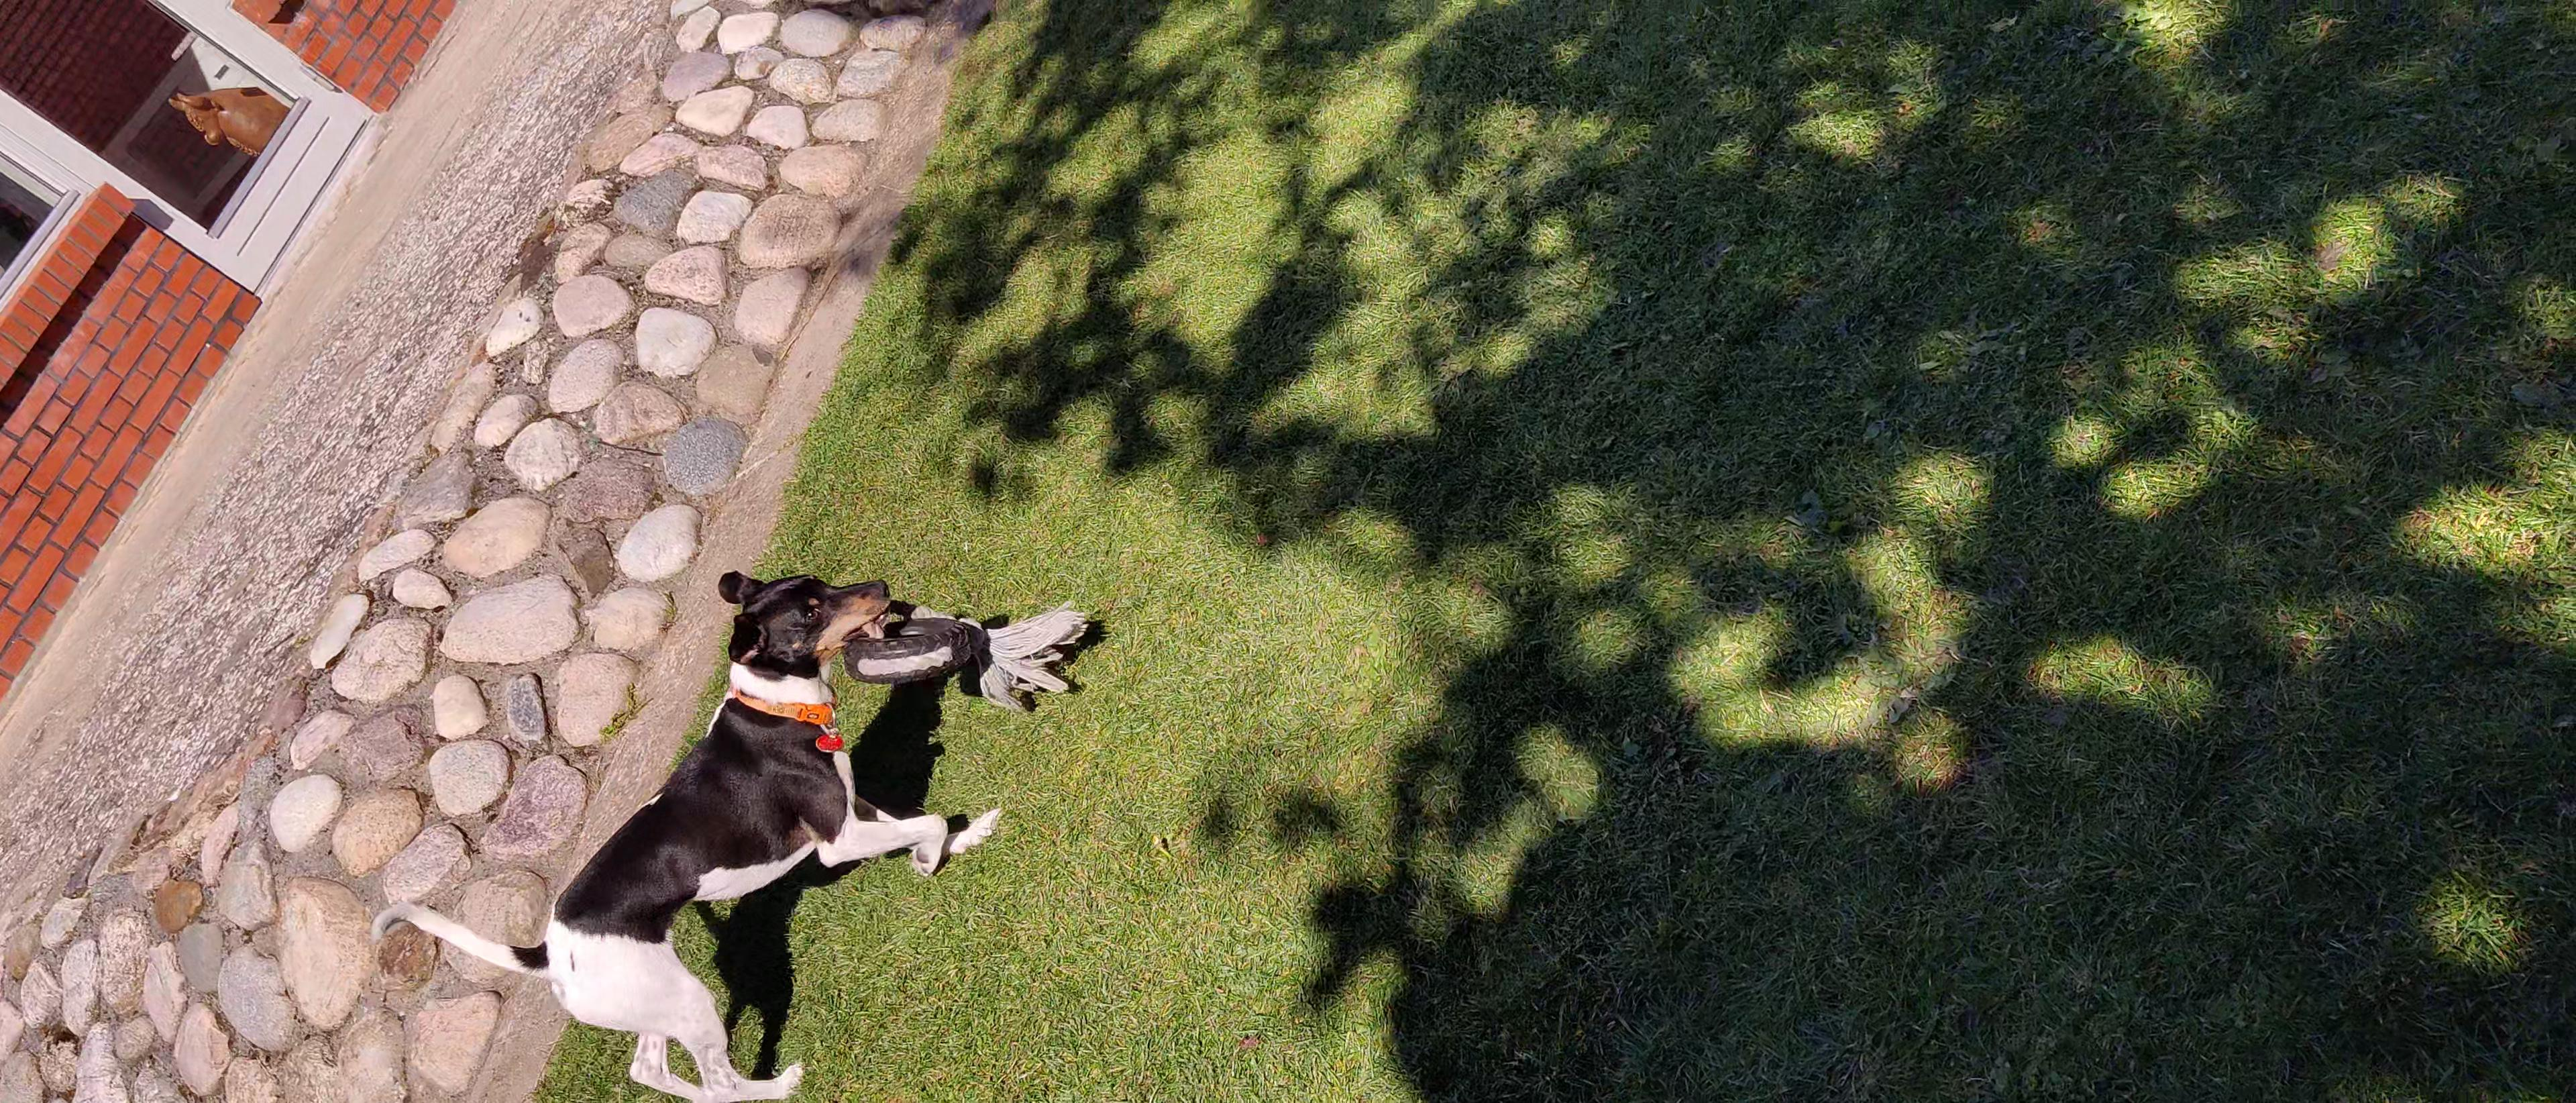Dog: (360, 556, 1012, 1103)
